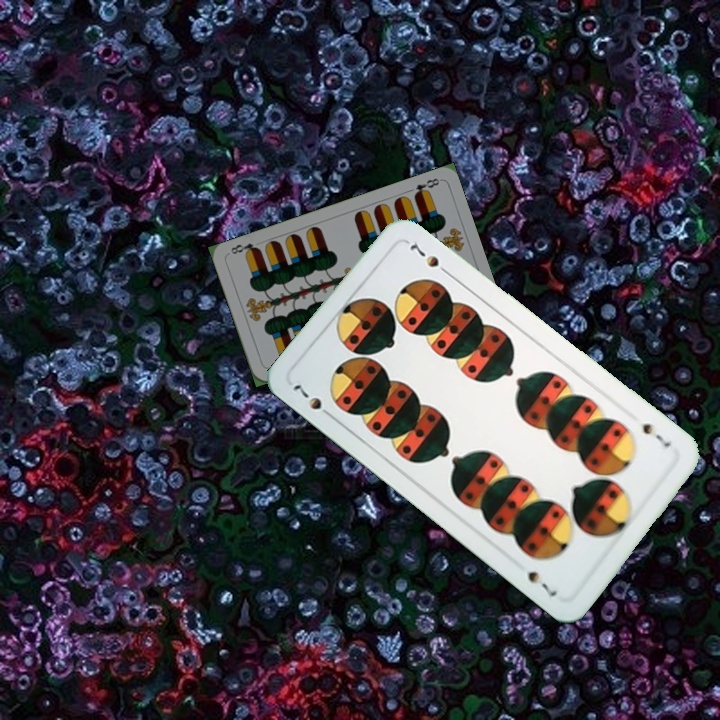E8: (410, 174, 442, 200)
S7: (289, 379, 337, 422), (638, 419, 674, 450)
